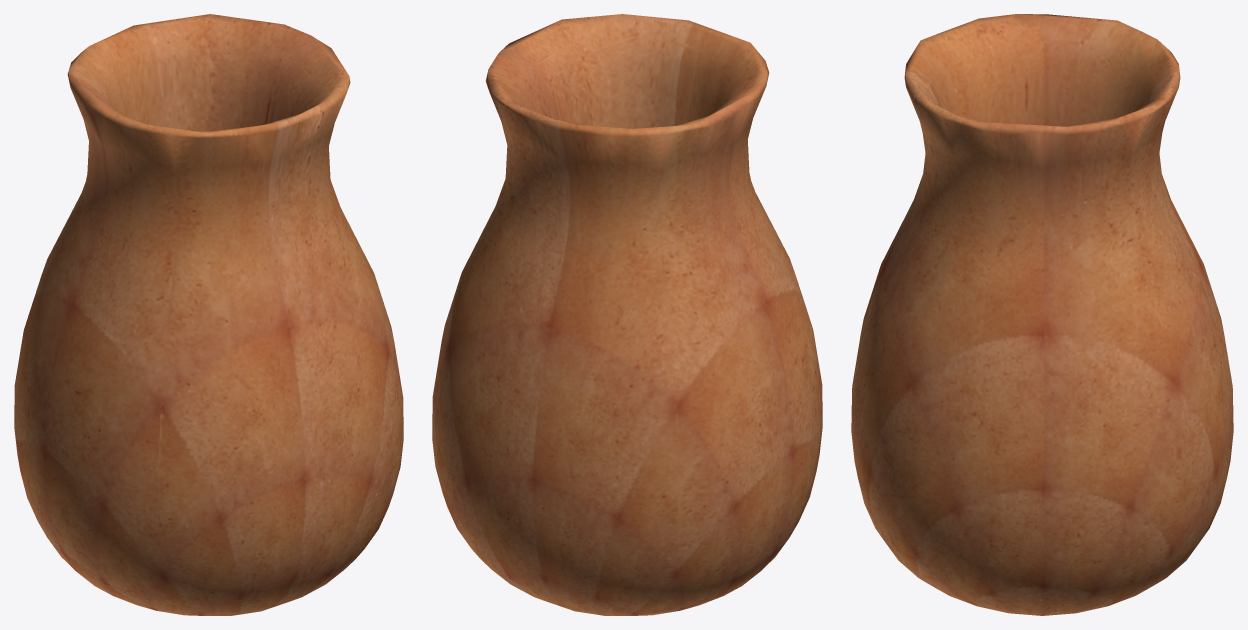
The model's file is pot.fbx.
The picture shows the model from 3 angles, left to right: view 1: azimuth 30°, elevation 25°; view 2: azimuth 150°, elevation 25°; view 3: azimuth 270°, elevation 25°; orthographic projection.
Parts seen in each view (by area): view 1: pot_fracturepart2, pot_fracturepart20, pot_fracturepart34, pot_fracturepart35, pot_fracturepart15, pot_fracturepart4, pot_fracturepart1, pot_fracturepart23, pot_fracturepart10, pot_fracturepart11, pot_fracturepart24, pot_fracturepart37 (+9 smaller); view 2: pot_fracturepart33, pot_fracturepart35, pot_fracturepart2, pot_fracturepart17, pot_fracturepart24, pot_fracturepart30, pot_fracturepart31, pot_fracturepart4, pot_fracturepart25, pot_fracturepart7, pot_fracturepart40, pot_fracturepart16 (+7 smaller); view 3: pot_fracturepart27, pot_fracturepart8, pot_fracturepart2, pot_fracturepart19, pot_fracturepart6, pot_fracturepart24, pot_fracturepart35, pot_fracturepart29, pot_fracturepart39, pot_fracturepart17, pot_fracturepart23, pot_fracturepart26 (+8 smaller).
Boxes of the visible parts, x1,y1,x2,y2 form: pot_fracturepart2: [67, 59, 276, 319]; pot_fracturepart20: [129, 122, 311, 353]; pot_fracturepart34: [191, 404, 388, 540]; pot_fracturepart35: [71, 14, 255, 130]; pot_fracturepart15: [151, 320, 366, 437]; pot_fracturepart4: [36, 245, 145, 431]; pot_fracturepart1: [117, 352, 256, 511]; pot_fracturepart23: [247, 182, 364, 387]; pot_fracturepart10: [177, 507, 372, 613]; pot_fracturepart11: [25, 404, 129, 498]; pot_fracturepart24: [250, 58, 350, 192]; pot_fracturepart37: [29, 483, 127, 583]; pot_fracturepart33: [483, 178, 727, 430]; pot_fracturepart35: [479, 100, 666, 326]; pot_fracturepart2: [640, 24, 784, 267]; pot_fracturepart17: [433, 376, 578, 536]; pot_fracturepart24: [530, 14, 690, 127]; pot_fracturepart30: [622, 480, 758, 609]; pot_fracturepart31: [621, 394, 768, 526]; pot_fracturepart4: [710, 261, 816, 393]; pot_fracturepart25: [448, 326, 623, 473]; pot_fracturepart7: [495, 531, 644, 613]; pot_fracturepart40: [559, 444, 635, 591]; pot_fracturepart16: [688, 355, 793, 460]; pot_fracturepart27: [876, 214, 1074, 433]; pot_fracturepart8: [887, 462, 1138, 602]; pot_fracturepart2: [906, 14, 1137, 126]; pot_fracturepart19: [1021, 328, 1183, 503]; pot_fracturepart6: [999, 173, 1189, 340]; pot_fracturepart24: [905, 73, 1086, 236]; pot_fracturepart35: [1101, 29, 1192, 325]; pot_fracturepart29: [885, 398, 1146, 514]; pot_fracturepart39: [1104, 492, 1219, 601]; pot_fracturepart17: [1159, 366, 1233, 497]; pot_fracturepart23: [871, 179, 954, 378]; pot_fracturepart26: [1010, 101, 1162, 182].
Size of what is drawn, in the model's own units: 232 by 346 by 232.
Materials: 1 (1 with a texture image).
